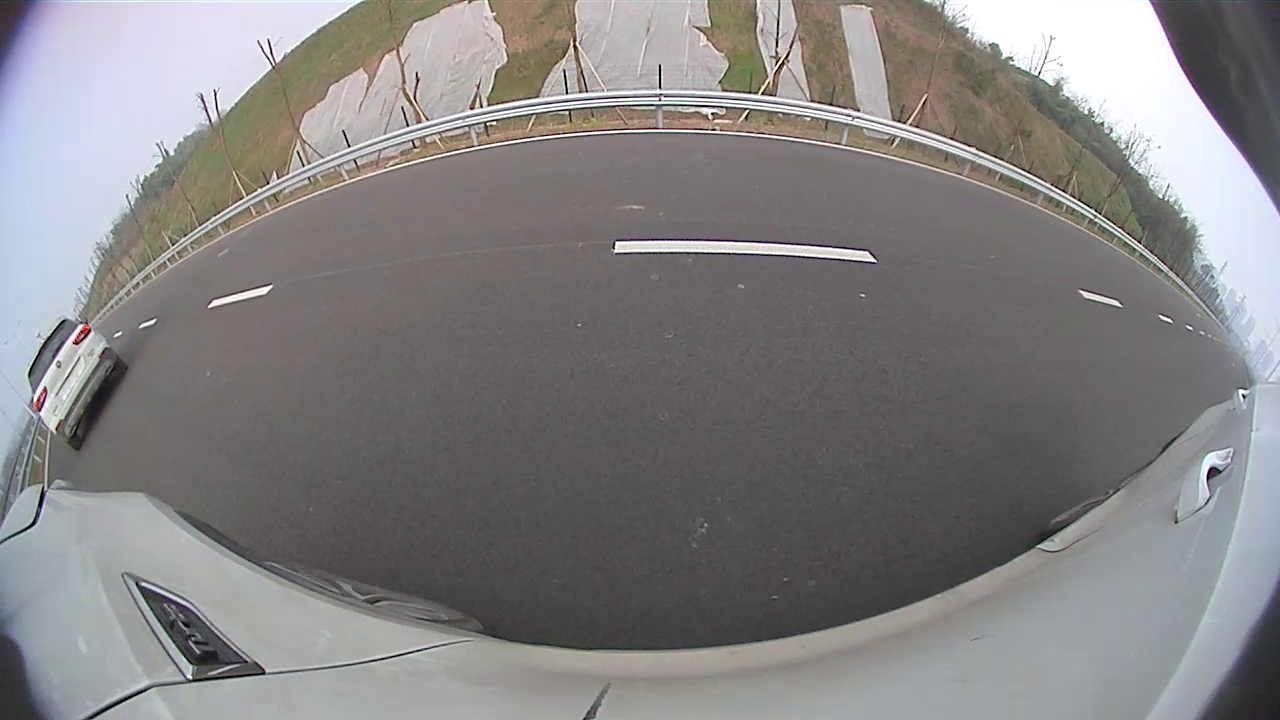car: (424, 139, 560, 230)
front: (547, 176, 556, 205)
rear: (510, 181, 528, 217)
